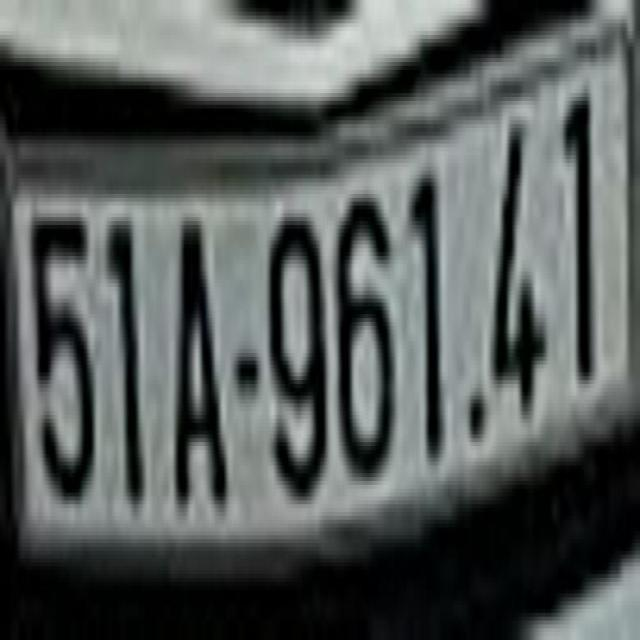1: (104, 206, 148, 520), (564, 82, 600, 400), (412, 174, 443, 473)
4: (491, 116, 552, 419)
5: (32, 202, 96, 512)
6: (338, 190, 397, 473)
9: (268, 217, 330, 508)
A: (172, 206, 225, 520)
